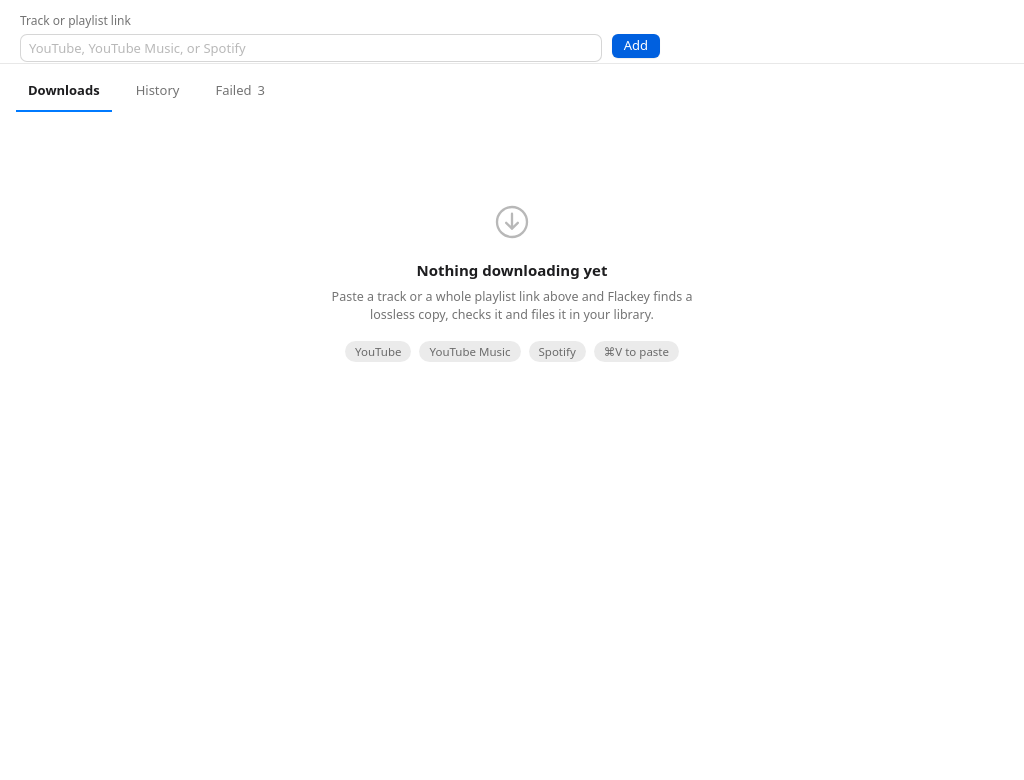
Test case: Retry all on the Failed tab › explains the gap between the Failed badge and its own count, rather than leaving two numbers
Click the tab "Failed 3": (240, 92) left=203, top=72, right=277, bottom=112
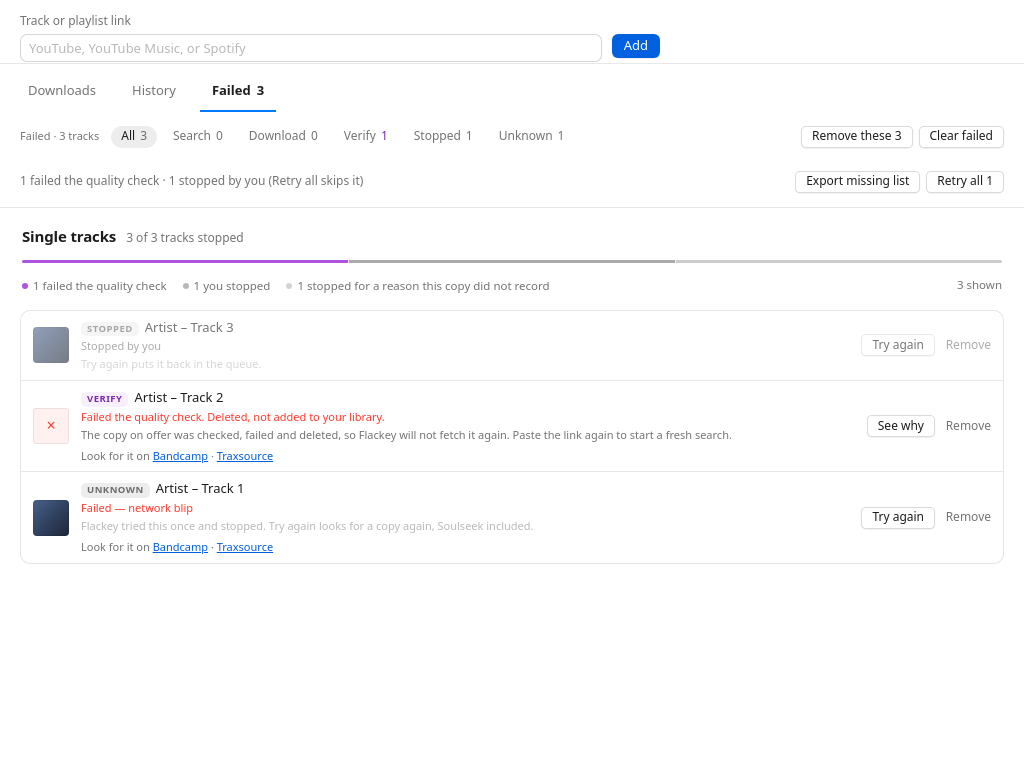
Now the button "Retry all 1" is shown, box left=926, top=170, right=1004, bottom=192
Now the text "1 failed the quality check · 1 stopped by you (Retry all skips it)" is shown, box left=20, top=172, right=363, bottom=190
